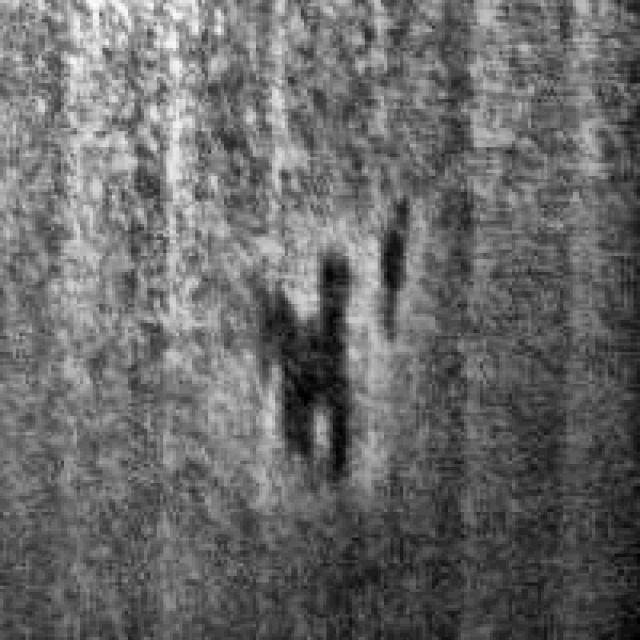Patches: (240, 230, 362, 502), (349, 208, 432, 355)
